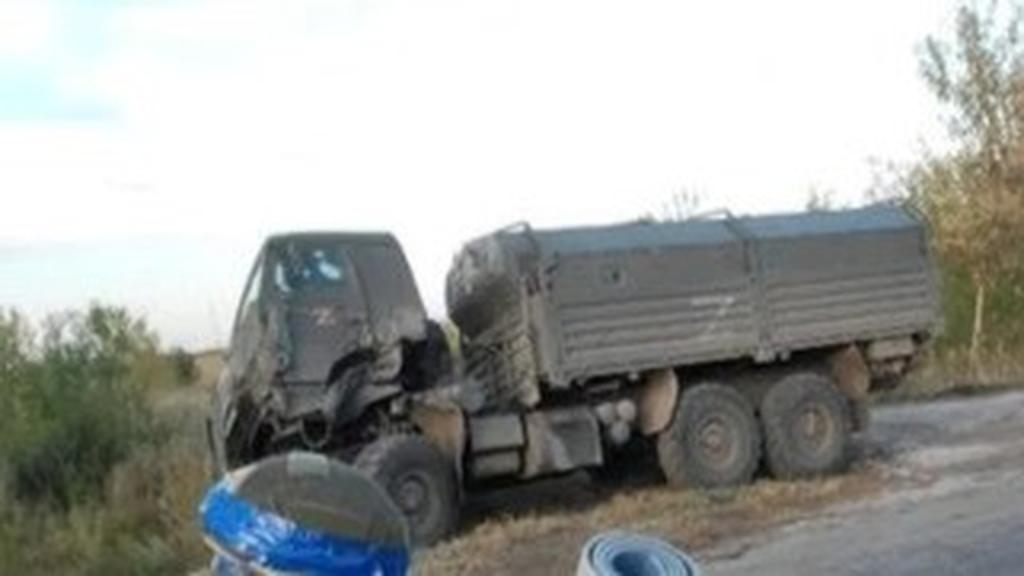TRUCK: (206, 194, 942, 556)
